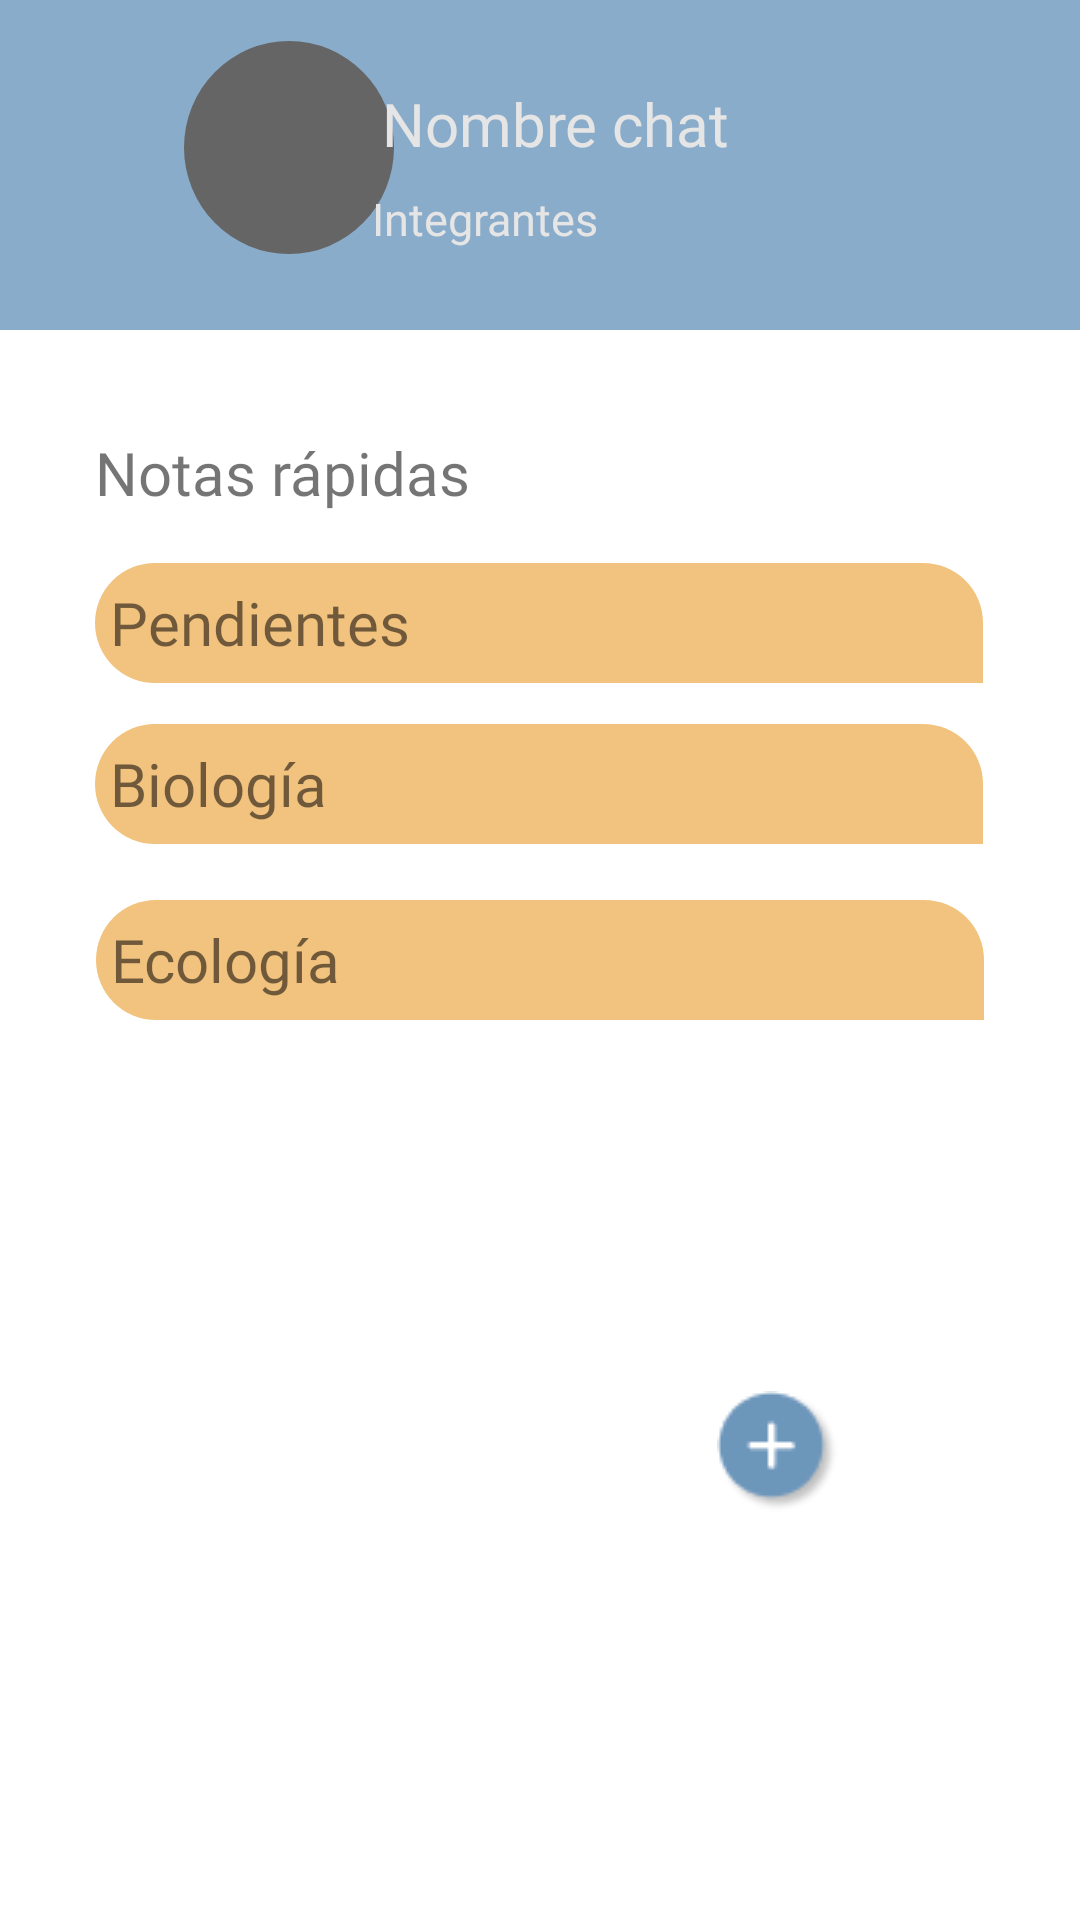

Screen size 1080 × 1920. Icon name, then its box in pixels as {"x1": x1, "y1": y1, "x2": x2, "y2": y2}:
mas: {"x1": 717, "y1": 1391, "x2": 831, "y2": 1505}
